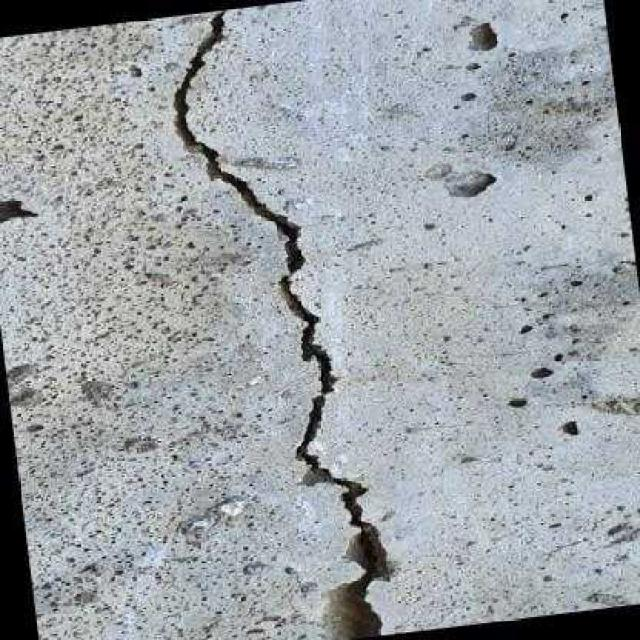D00: (168, 8, 397, 640)
